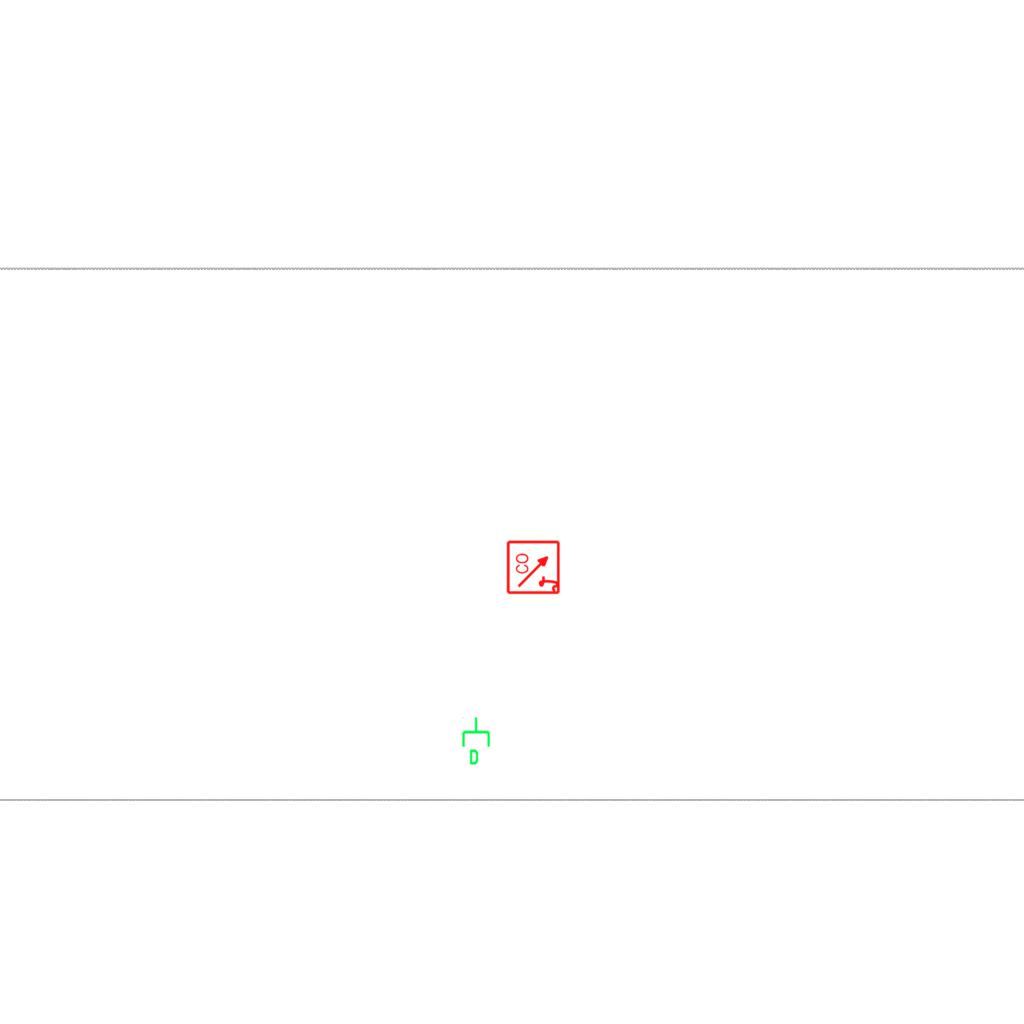Datenanschluss_einfach: (460, 716, 494, 766)
ROA_Rauchmelder_optisch_mit_Signalgeber_(Sockelsirene): (506, 539, 562, 595)
